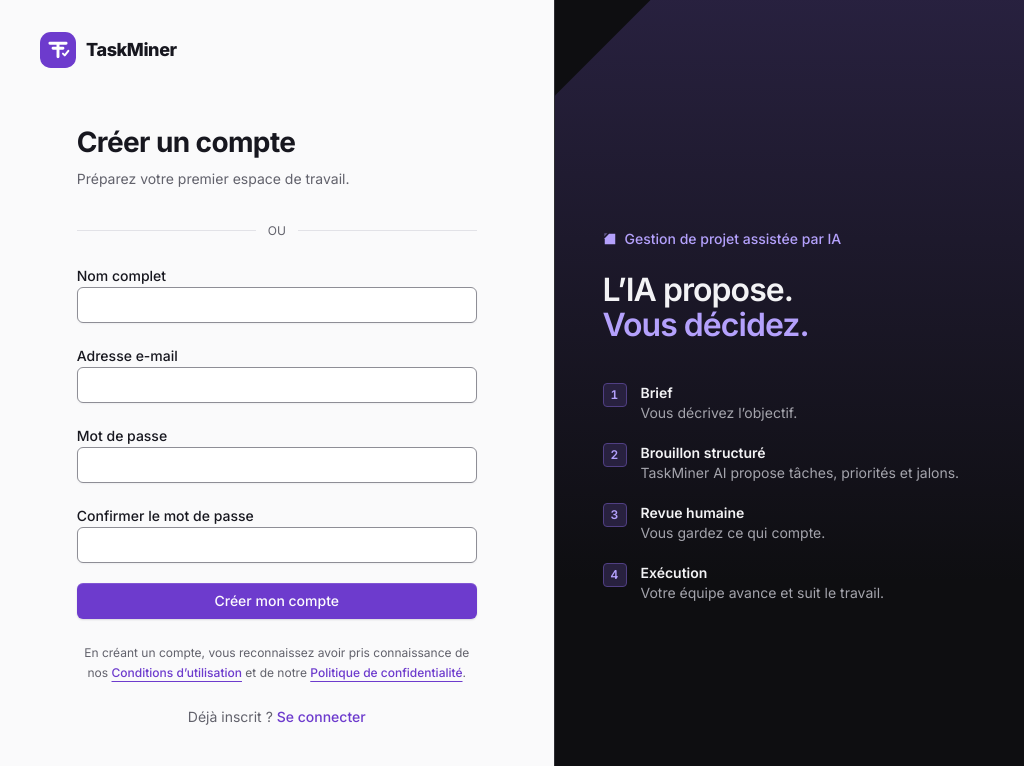
RegisterPage › displays a registration error returned by the backend
This screenshot has width=1024, height=766.
In the field labelled "Nom complet": {"x": 277, "y": 305} x1=77 y1=287 x2=477 y2=323, type "Ada Lovelace"
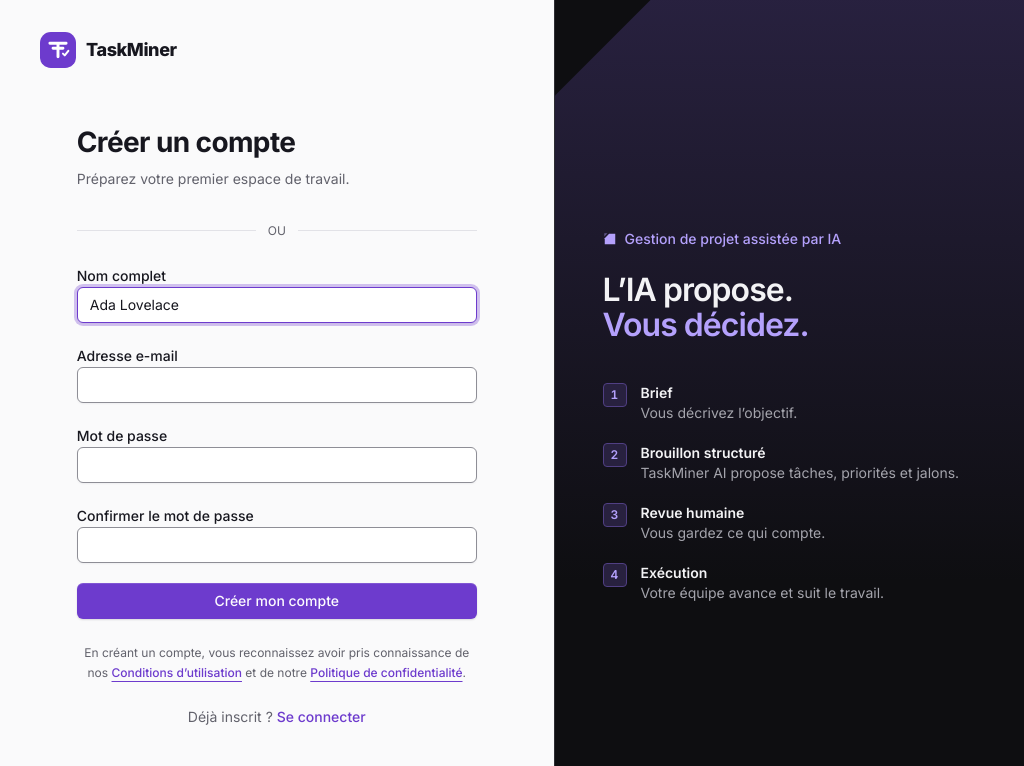
In the field labelled "Adresse e-mail": {"x": 277, "y": 385} x1=77 y1=367 x2=477 y2=403, type "ada@example.com"
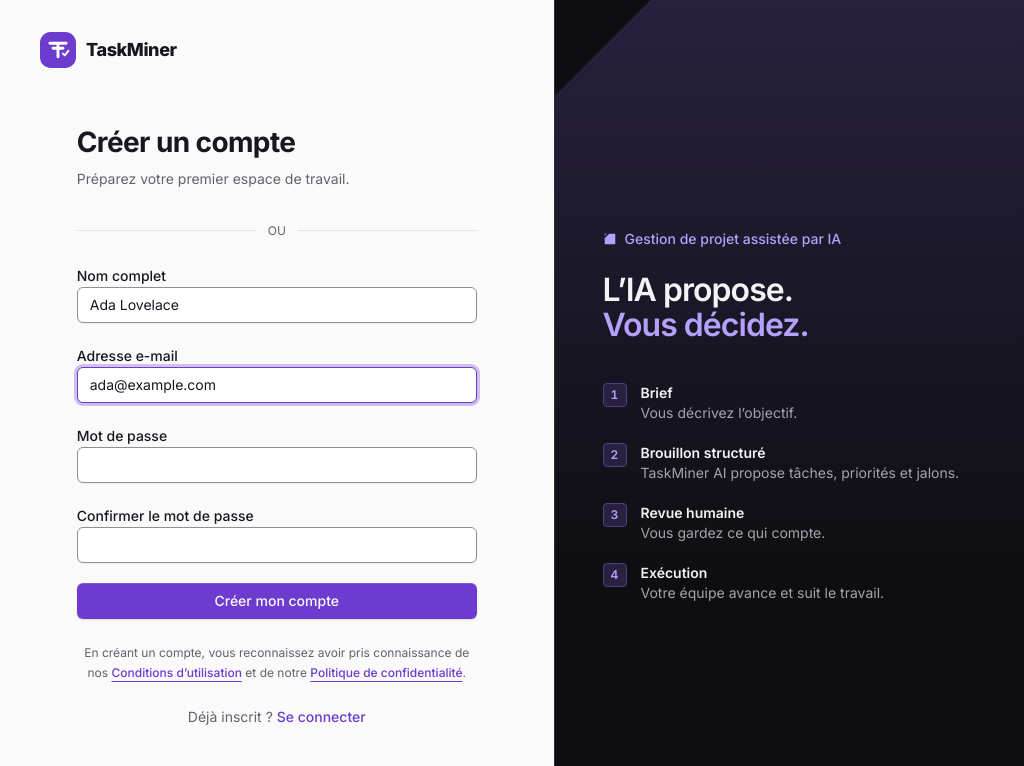
In the password field labelled "Mot de passe": {"x": 277, "y": 465} x1=77 y1=447 x2=477 y2=483, type "Strong-password-123!"
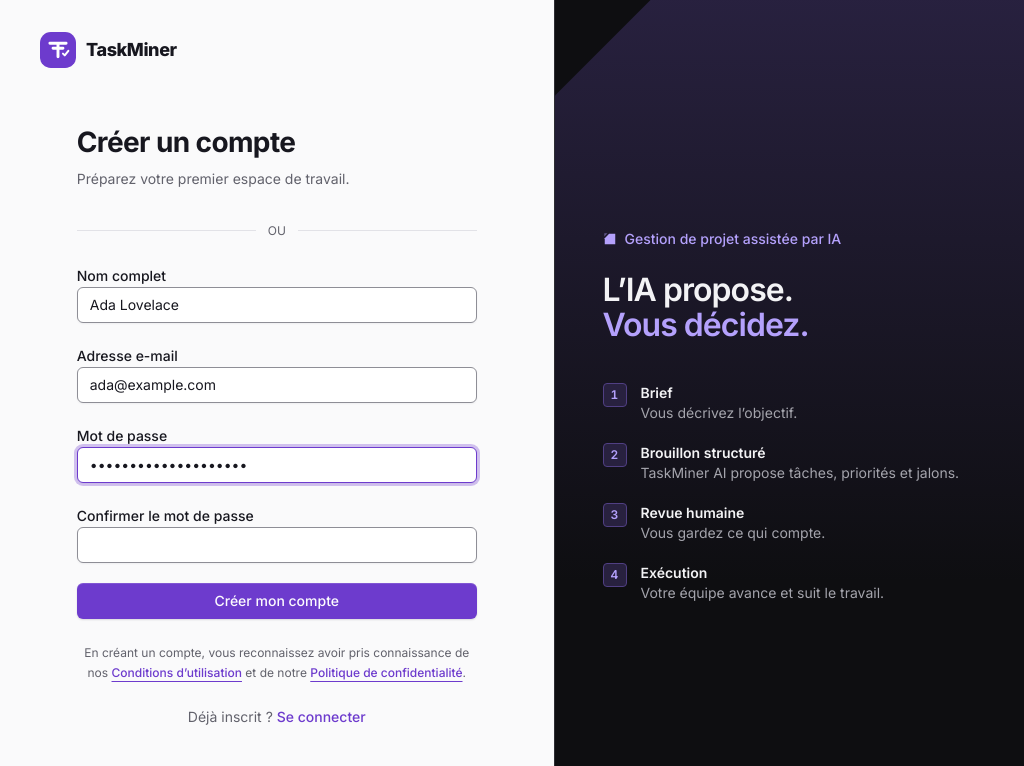
In the password field labelled "Confirmer le mot de passe": {"x": 277, "y": 545} x1=77 y1=527 x2=477 y2=563, type "Strong-password-123!"
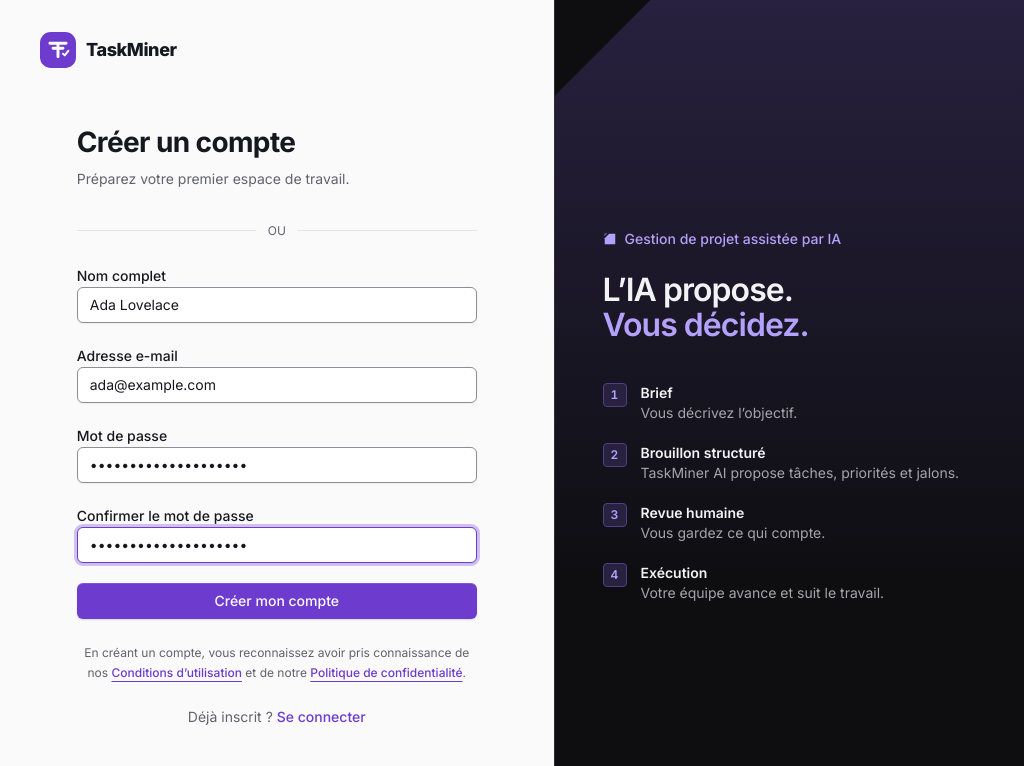
Click the button "Créer mon compte": {"x": 277, "y": 601} x1=77 y1=583 x2=477 y2=619
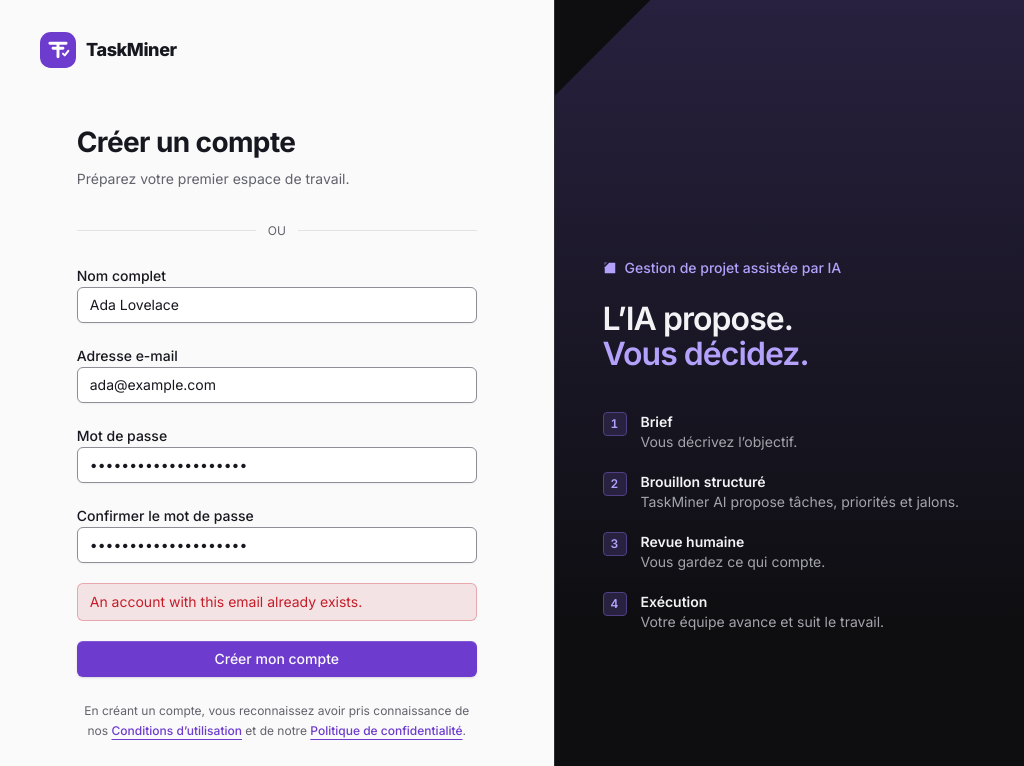
Expected: the text "An account with this email already exists." is shown, x1=77 y1=583 x2=477 y2=621
